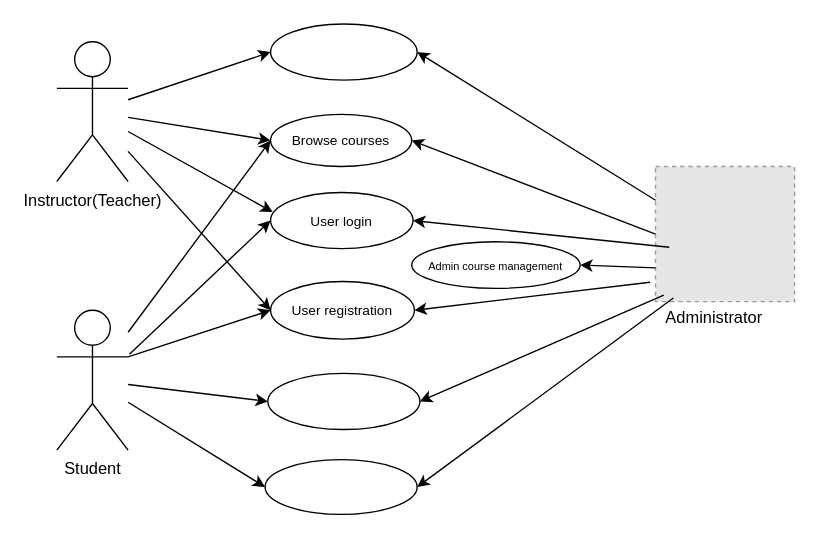
Image size: 819x538. Some labels were removed from this diagram. Grey dashed boxes stand in for pictures. Here are the shapes that lost their labels. From the top down, the centre of each, then its label:
At point (343, 51): "Create and publich course, materials".
At point (343, 400): "User review and rating".
At point (340, 486): "Enroll in a course".
